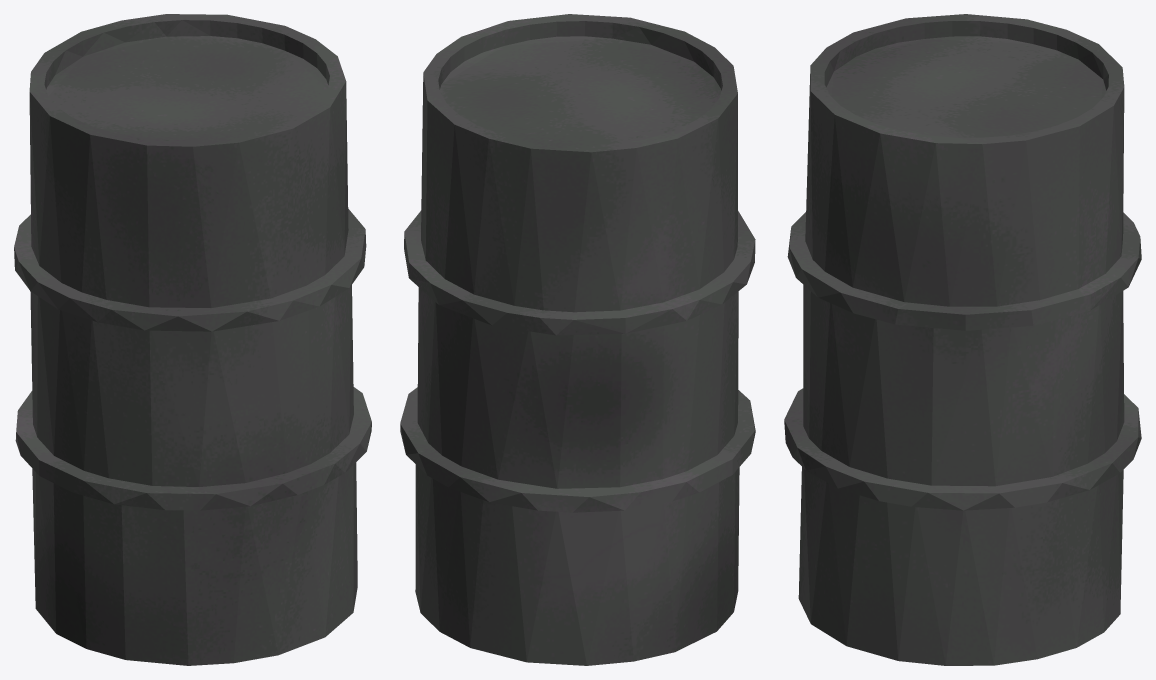
File: barrel_metall.fbx
3 renders of one model, left to right at view 1: azimuth 30°, elevation 25°; view 2: azimuth 150°, elevation 25°; view 3: azimuth 270°, elevation 25°, orthographic.
Parts seen in each view (by area): view 1: node_id4; view 2: node_id4; view 3: node_id4.
Boxes of the visible parts, x1,y1,x2,y2 form: node_id4: [14, 14, 371, 665]; node_id4: [400, 14, 755, 665]; node_id4: [784, 14, 1141, 665].
Size of the model in its own units: 0.1213 by 0.1949 by 0.121.
1 material, 1 textured.
